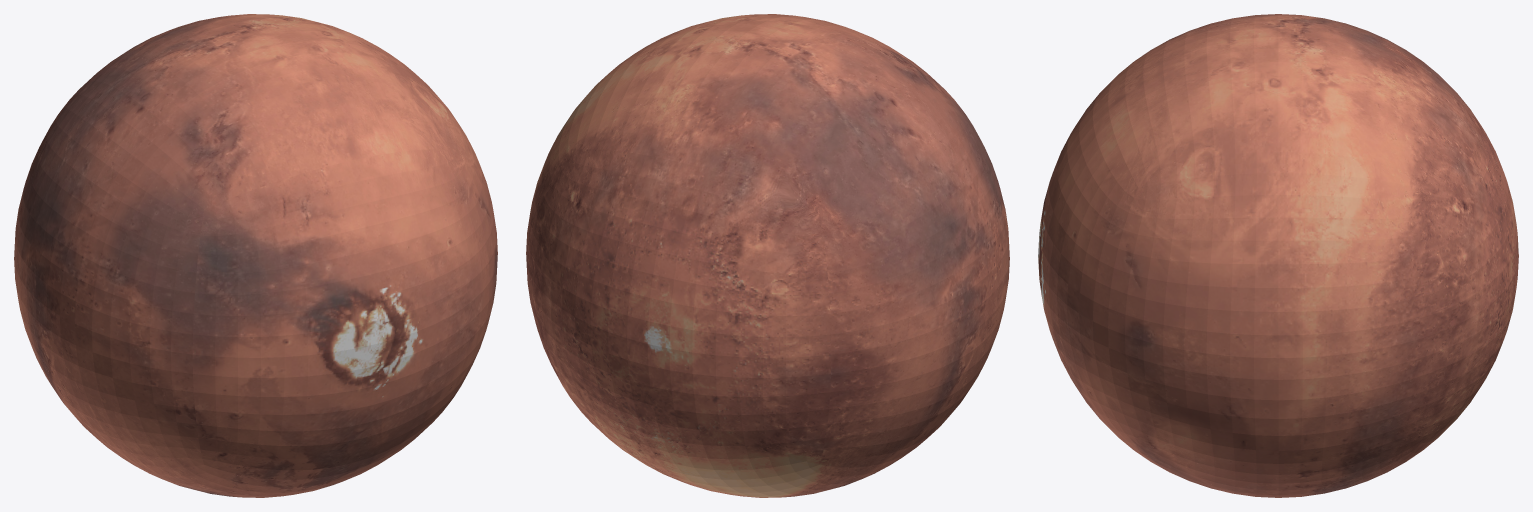
The model's file is mars.obj.
The picture shows the model from 3 angles, left to right: view 1: azimuth 30°, elevation 25°; view 2: azimuth 150°, elevation 25°; view 3: azimuth 270°, elevation 25°; orthographic projection.
Visible parts, largest first — view 1: Object.1; view 2: Object.1; view 3: Object.1.
Boxes of the visible parts, bbox=[...] form: Object.1: bbox=[14, 14, 497, 497]; Object.1: bbox=[526, 14, 1009, 497]; Object.1: bbox=[1038, 14, 1518, 497].
Size of the model in its own units: 1000000 by 1000000 by 994111.
